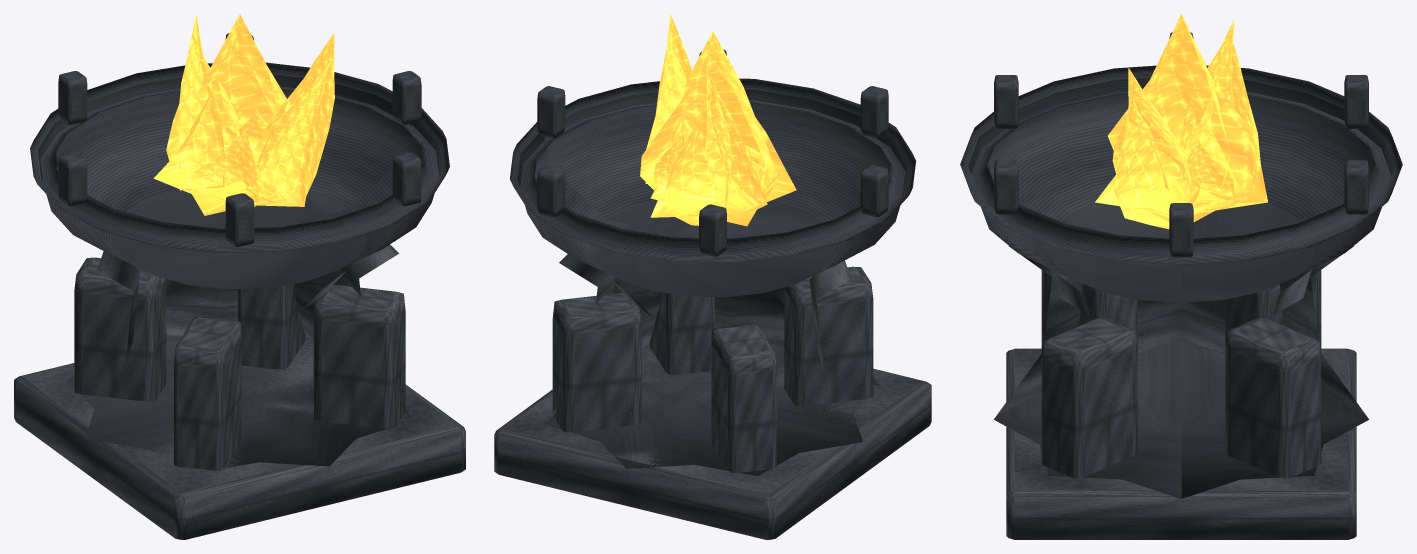
Rendered from brazier.glb.
The picture shows the model from 3 angles, left to right: view 1: azimuth 30°, elevation 25°; view 2: azimuth 150°, elevation 25°; view 3: azimuth 270°, elevation 25°; orthographic projection. The views are drawn at different scales.
Visible parts, largest first — view 1: StoneBrazier; view 2: StoneBrazier; view 3: StoneBrazier.
Boxes of the visible parts, <box> form: StoneBrazier: <box>14,14,465,539</box>; StoneBrazier: <box>494,14,931,539</box>; StoneBrazier: <box>960,14,1402,539</box>.
Bounding box in the file's own units: 32.4 × 36.75 × 32.4.
3 materials, 3 textured.
